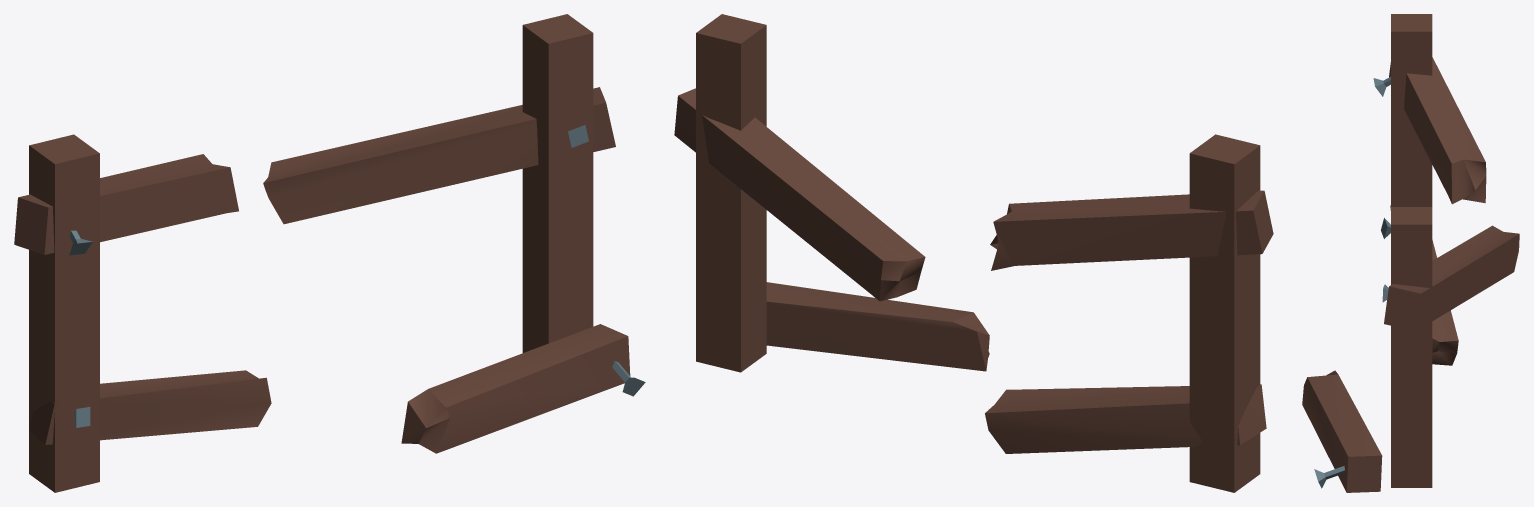
3 views of the same model, side by side, from view 1: azimuth 30°, elevation 25°; view 2: azimuth 150°, elevation 25°; view 3: azimuth 270°, elevation 25° (orthographic). The views are drawn at different scales.
Parts seen in each view (by area): view 1: node_MeshObject836591616-PolyPaper21; view 2: node_MeshObject836591616-PolyPaper21; view 3: node_MeshObject836591616-PolyPaper21.
Boxes of the visible parts, left/top/right/bottom form: node_MeshObject836591616-PolyPaper21: left=14, top=14, right=645, bottom=492; node_MeshObject836591616-PolyPaper21: left=674, top=14, right=1273, bottom=492; node_MeshObject836591616-PolyPaper21: left=1302, top=14, right=1519, bottom=492.
Bounding box in the file's own units: 1.06 × 0.5681 × 0.4192.
